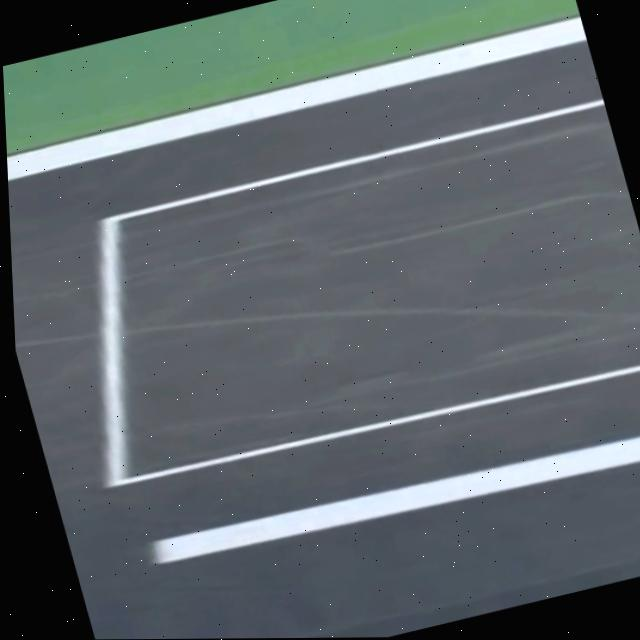center: (152, 437, 640, 562)
right: (7, 17, 587, 180)
